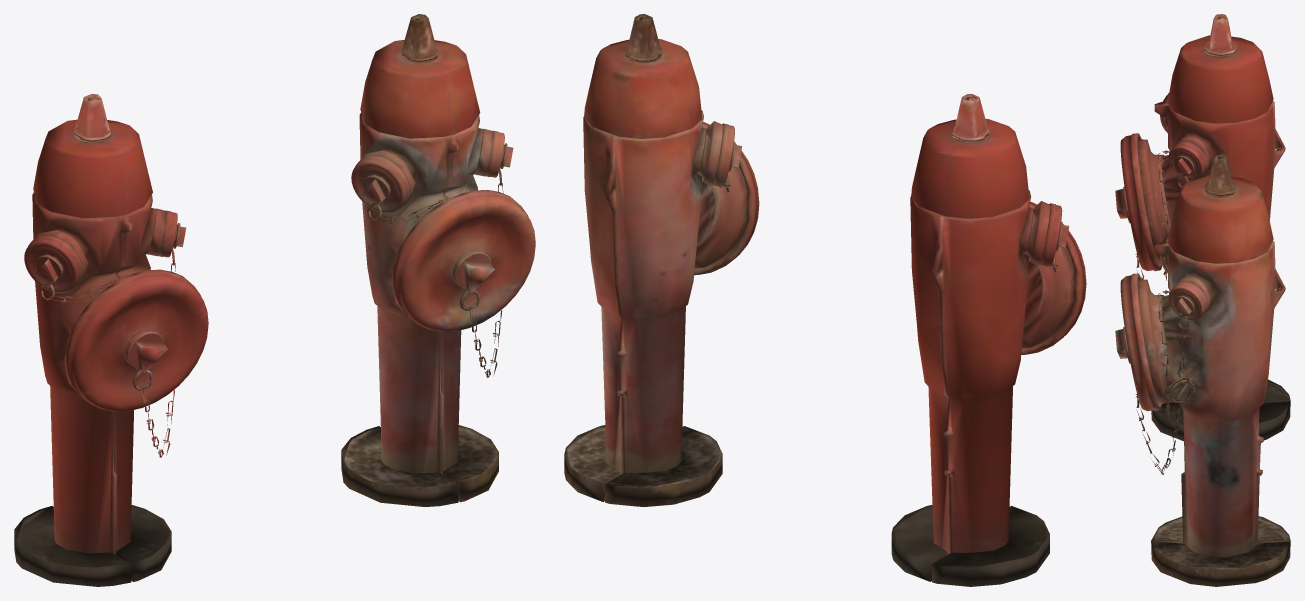
The model's file is hydrant.glb.
3 views of the same model, side by side, from view 1: azimuth 30°, elevation 25°; view 2: azimuth 150°, elevation 25°; view 3: azimuth 270°, elevation 25° (orthographic). The views are drawn at different scales.
Parts seen in each view (by area): view 1: fire_hydrant_aged, fire_hydrant, fire_hydrant_cap_01_aged, fire_hydrant_cap_01, fire_hydrant_cap_03_aged, fire_hydrant_cap_03, fire_hydrant_chain_aged, fire_hydrant_chain, fire_hydrant_cap_02, fire_hydrant_cap_02_aged; view 2: fire_hydrant, fire_hydrant_aged, fire_hydrant_cap_01, fire_hydrant_cap_01_aged, fire_hydrant_cap_03_aged, fire_hydrant_cap_03; view 3: fire_hydrant_aged, fire_hydrant, fire_hydrant_cap_01, fire_hydrant_cap_01_aged, fire_hydrant_chain_aged, fire_hydrant_cap_02_aged, fire_hydrant_cap_02, fire_hydrant_chain.
Boxes of the visible parts, x1=… form: fire_hydrant_aged: x1=341, y1=14, x2=498, y2=506; fire_hydrant: x1=14, y1=94, x2=171, y2=586; fire_hydrant_cap_01_aged: x1=391, y1=190, x2=535, y2=331; fire_hydrant_cap_01: x1=64, y1=269, x2=208, y2=411; fire_hydrant_cap_03_aged: x1=351, y1=155, x2=410, y2=213; fire_hydrant_cap_03: x1=24, y1=235, x2=83, y2=293; fire_hydrant_chain_aged: x1=367, y1=145, x2=504, y2=377; fire_hydrant_chain: x1=40, y1=224, x2=177, y2=457; fire_hydrant_cap_02: x1=157, y1=210, x2=186, y2=257; fire_hydrant_cap_02_aged: x1=485, y1=130, x2=513, y2=177; fire_hydrant: x1=891, y1=94, x2=1074, y2=586; fire_hydrant_aged: x1=564, y1=14, x2=747, y2=506; fire_hydrant_cap_01: x1=1021, y1=201, x2=1086, y2=354; fire_hydrant_cap_01_aged: x1=694, y1=122, x2=759, y2=275; fire_hydrant_cap_03_aged: x1=711, y1=123, x2=741, y2=186; fire_hydrant_cap_03: x1=1038, y1=203, x2=1069, y2=266; fire_hydrant_aged: x1=1138, y1=154, x2=1290, y2=586; fire_hydrant: x1=1138, y1=14, x2=1290, y2=441; fire_hydrant_cap_01: x1=1115, y1=133, x2=1161, y2=271; fire_hydrant_cap_01_aged: x1=1115, y1=273, x2=1161, y2=411; fire_hydrant_chain_aged: x1=1135, y1=290, x2=1195, y2=474; fire_hydrant_cap_02_aged: x1=1168, y1=281, x2=1208, y2=320; fire_hydrant_cap_02: x1=1168, y1=141, x2=1208, y2=180; fire_hydrant_chain: x1=1135, y1=150, x2=1193, y2=280.
Size of the model in its own units: 0.8746 by 0.7992 by 0.3173.
2 materials, 2 textured.
